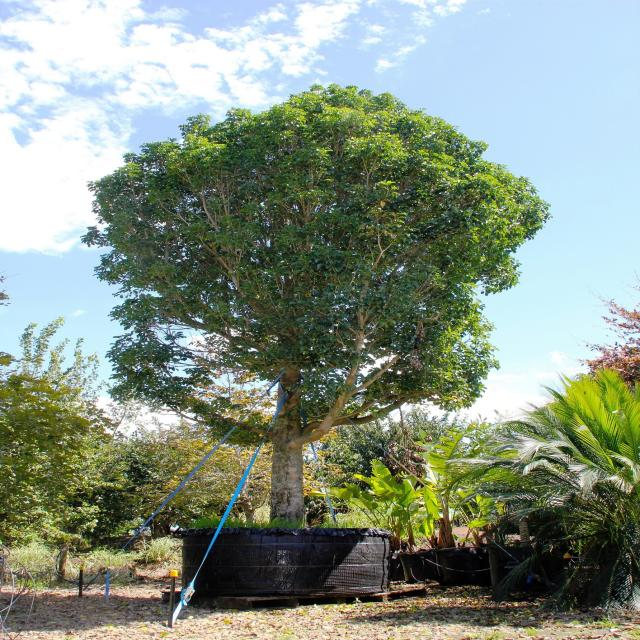Vitex lucens: (78, 90, 547, 544)
